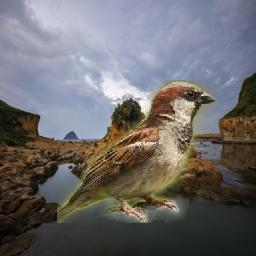Sparrow: (57, 81, 215, 224)
